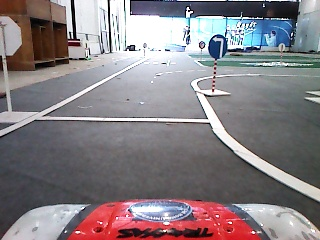turn_left: (209, 34, 228, 60)
